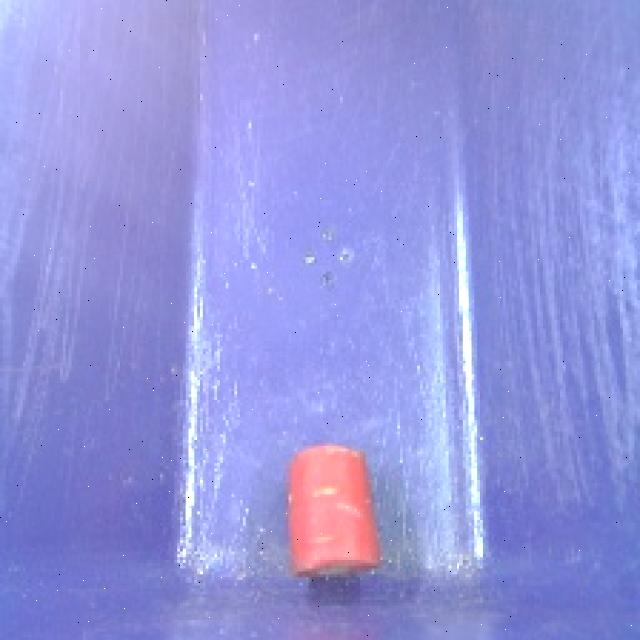carrots: (278, 434, 386, 590)
